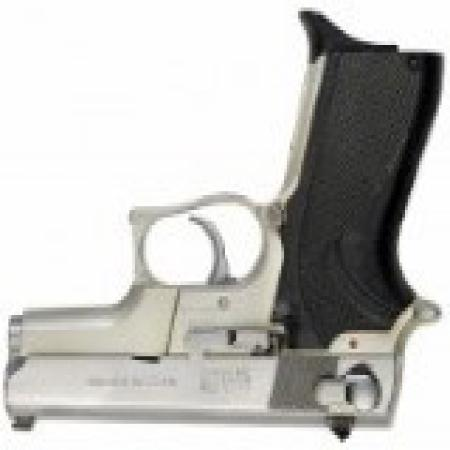Pistol: (12, 7, 445, 442)
